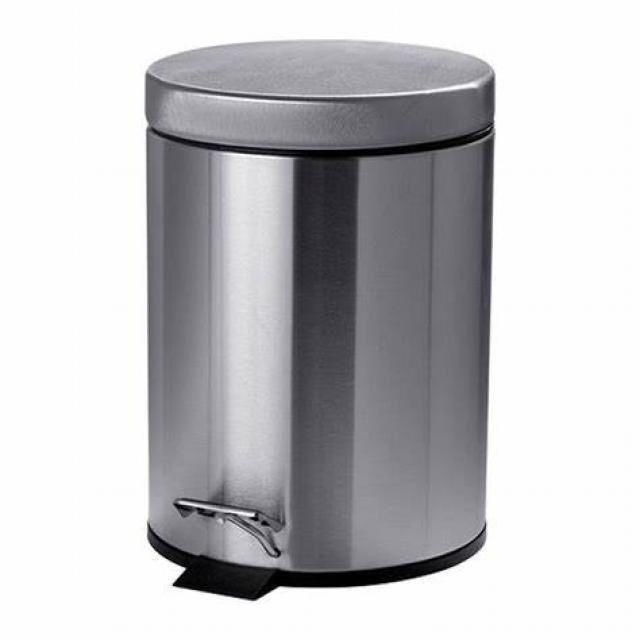garbage container: (106, 28, 535, 608)
